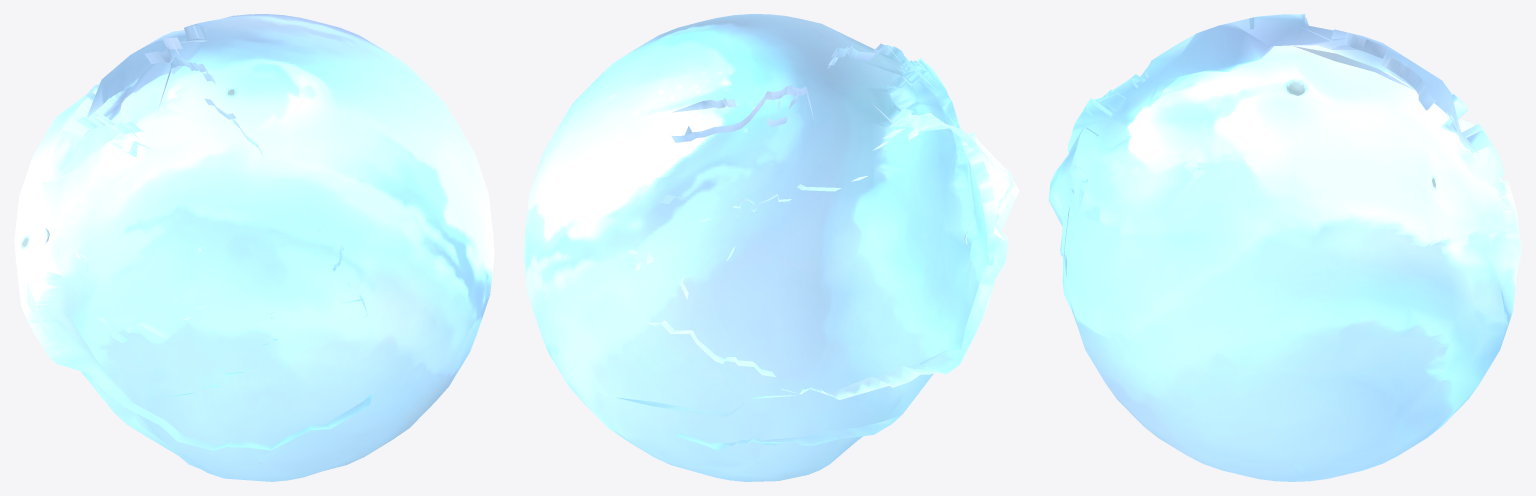
Rendered from sky_bg.glb.
3 renders of one model, left to right at view 1: azimuth 30°, elevation 25°; view 2: azimuth 150°, elevation 25°; view 3: azimuth 270°, elevation 25°, orthographic. The views are drawn at different scales.
Parts seen in each view (by area): view 1: Object001_Material__25__background_JPG_002_0; view 2: Object001_Material__25__background_JPG_002_0; view 3: Object001_Material__25__background_JPG_002_0.
Part boxes in pixels (box(x1,y1,x2,y2)): Object001_Material__25__background_JPG_002_0: box(14, 14, 494, 481); Object001_Material__25__background_JPG_002_0: box(523, 14, 1019, 481); Object001_Material__25__background_JPG_002_0: box(1048, 14, 1521, 481).
Size of the model in its own units: 33.29 by 31.24 by 32.01.
